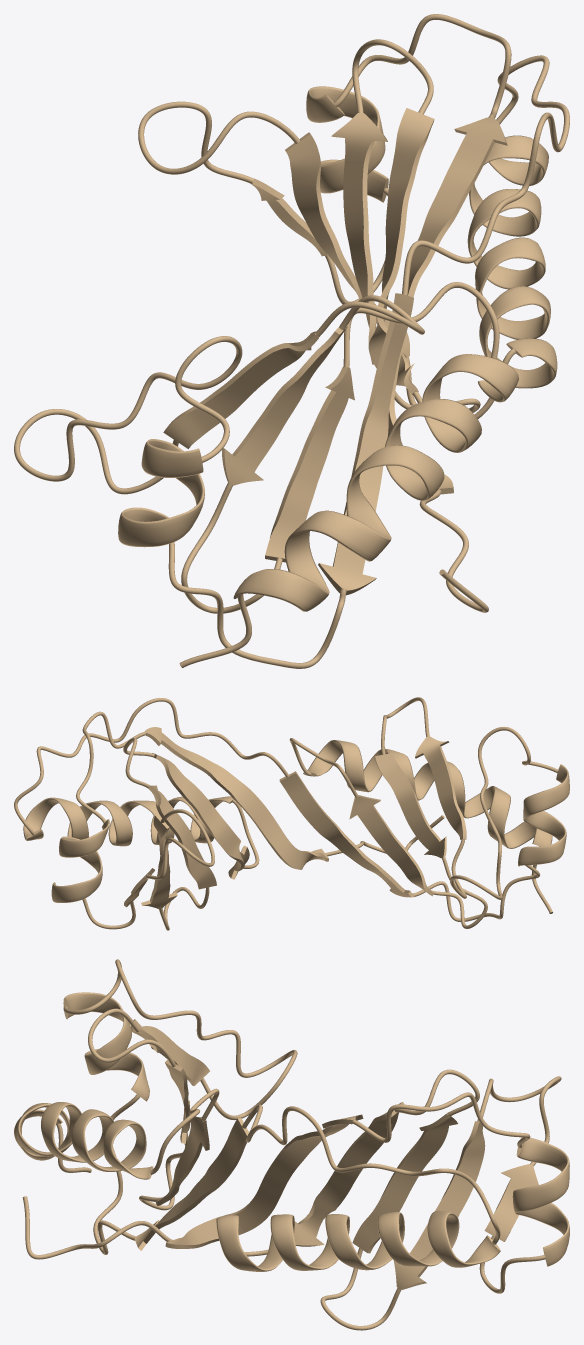
Rendered from 1cdw_unbound.glb.
3 renders of one model, top to bottom at view 1: azimuth 30°, elevation 25°; view 2: azimuth 150°, elevation 25°; view 3: azimuth 270°, elevation 25°, orthographic. The views are drawn at different scales.
Visible parts, largest first — view 1: ribbons; view 2: ribbons; view 3: ribbons.
Part boxes in pixels (x1=…): ribbons: x1=14, y1=14, x2=569, y2=668; ribbons: x1=14, y1=697, x2=569, y2=930; ribbons: x1=14, y1=959, x2=569, y2=1330.
Size of the model in its own units: 49.54 by 28.39 by 48.46.
